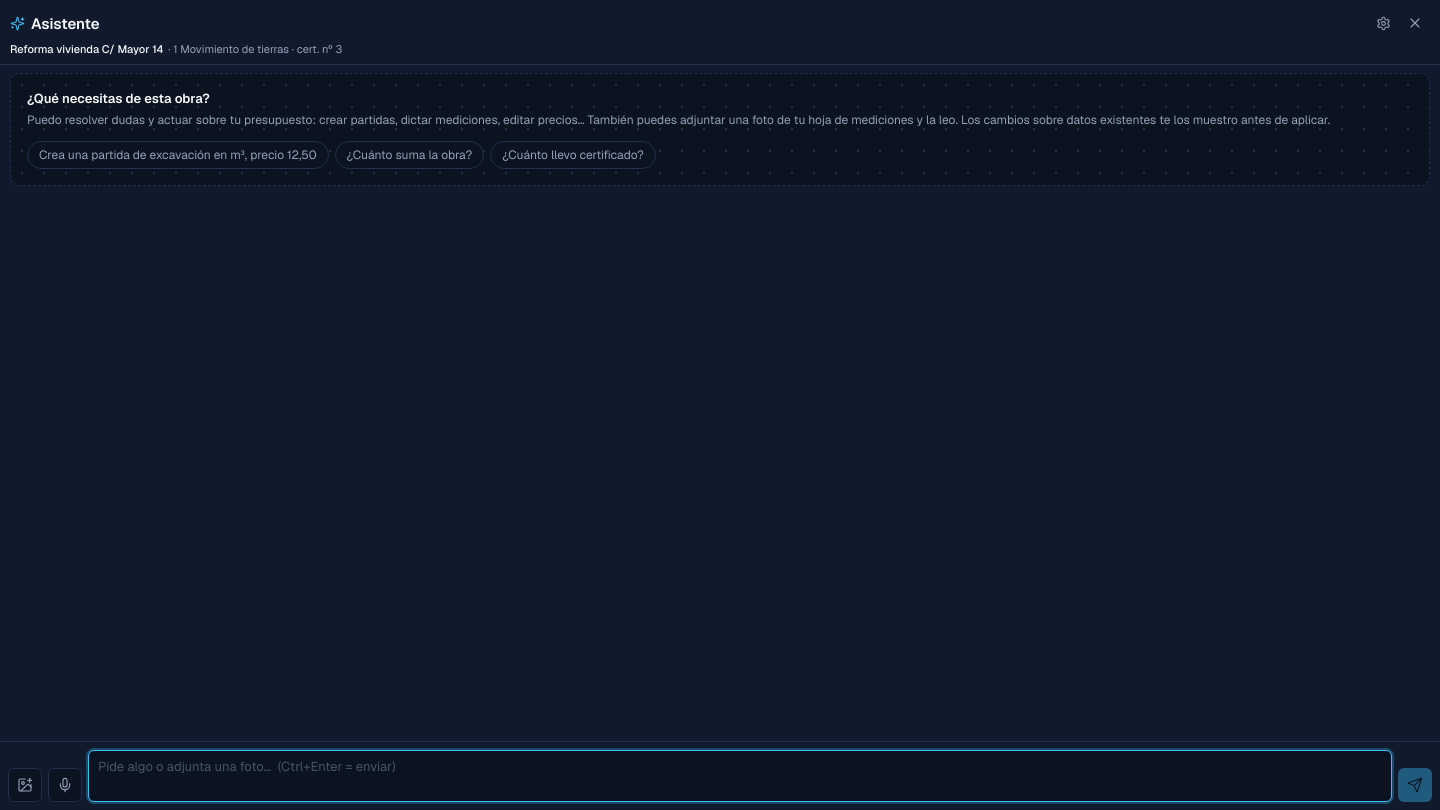
AsistenteChat · dictado por voz (F-A6) › con SpeechRecognition: aparece el micro y al pulsarlo arranca (es-ES, continuo)
What coordinates should you click on to do the following:
click the button named "Dictar por voz"
I would click on:
 (65, 785)
Its box is [48,768,82,802].
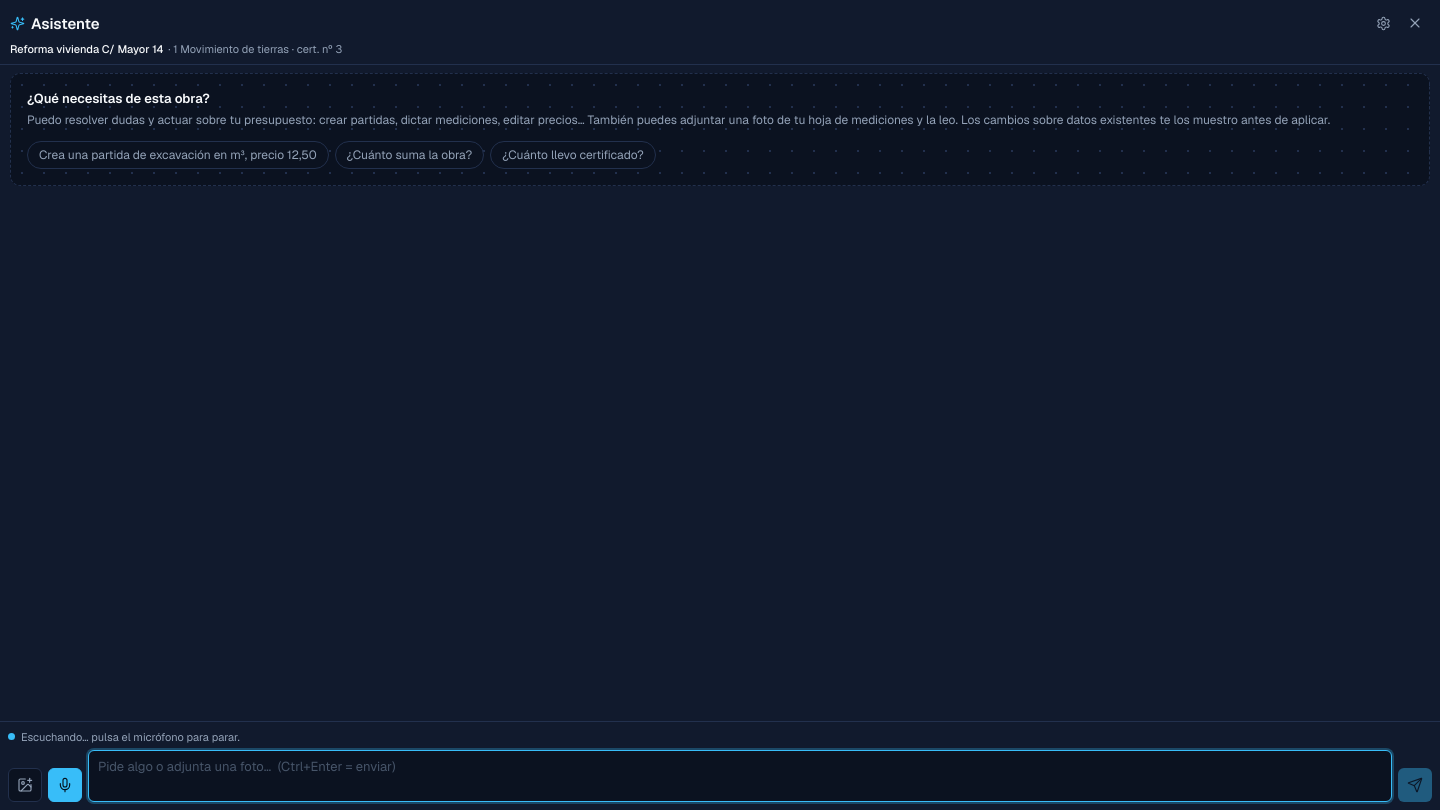
Check: the text "Escuchando… pulsa el micrófono para parar." is shown, box [8,730,240,744]
